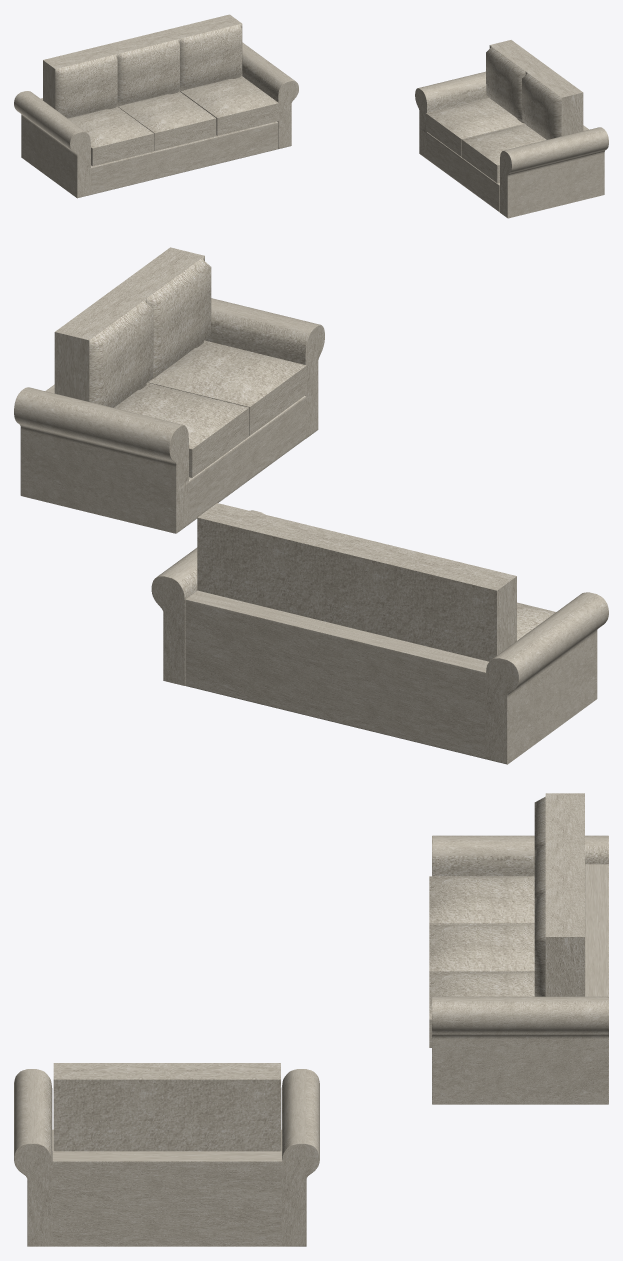
File: sofas.fbx
3 renders of one model, top to bottom at view 1: azimuth 30°, elevation 25°; view 2: azimuth 150°, elevation 25°; view 3: azimuth 270°, elevation 25°, orthographic. The views are drawn at different scales.
Parts seen in each view (by area): view 1: sofa_pCube2, sofa3_pCube2, pCube6 (×2), pCube8 (×2), pCube3 (×2), pCube4 (×2), pCube7, pCube5; view 2: sofa_pCube2, sofa3_pCube2, pCube8 (×2), pCube6 (×2), pCube7, pCube4, pCube3 (×2); view 3: sofa3_pCube2, sofa_pCube2, pCube6 (×2), pCube8 (×2), pCube7, pCube4, pCube3, pCube5.
Part boxes in pixels (left/top/right/bottom): sofa_pCube2: left=14, top=42, right=298, bottom=198; sofa3_pCube2: left=415, top=71, right=608, bottom=218; pCube6 (×2): left=105, top=29, right=583, bottom=139; pCube8 (×2): left=43, top=40, right=546, bottom=123; pCube3 (×2): left=68, top=98, right=524, bottom=166; pCube4 (×2): left=118, top=91, right=546, bottom=183; pCube7: left=168, top=14, right=242, bottom=91; pCube5: left=180, top=76, right=278, bottom=135; sofa_pCube2: left=151, top=510, right=608, bottom=764; sofa3_pCube2: left=14, top=298, right=324, bottom=533; pCube8 (×2): left=54, top=289, right=516, bottom=661; pCube6 (×2): left=113, top=247, right=416, bottom=638; pCube7: left=197, top=503, right=316, bottom=614; pCube4: left=147, top=340, right=306, bottom=435; pCube3 (×2): left=114, top=382, right=555, bottom=640; sofa3_pCube2: left=14, top=1069, right=319, bottom=1246; sofa_pCube2: left=432, top=835, right=608, bottom=1104; pCube6 (×2): left=53, top=841, right=584, bottom=1151; pCube8 (×2): left=167, top=793, right=584, bottom=1151; pCube7: left=534, top=889, right=584, bottom=996; pCube4: left=429, top=924, right=534, bottom=972; pCube3: left=429, top=876, right=534, bottom=923; pCube5: left=429, top=972, right=534, bottom=1047.
Bounding box in the file's own units: 4.18 × 0.9781 × 3.36.
Materials: 1 (1 with a texture image).
